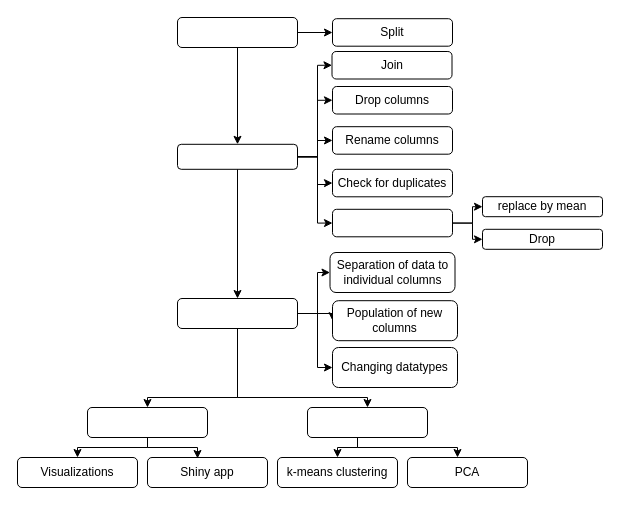
This 620x505 diagram has some shape labels left out. The centre of each missing label's shape, as x and y in pixels:
Augment data: point (237, 313)
Clean data: point (237, 156)
data_clean_aug: point (147, 422)
data_clean_num: point (367, 422)
Load data: point (237, 32)
NA treatment: point (392, 222)
